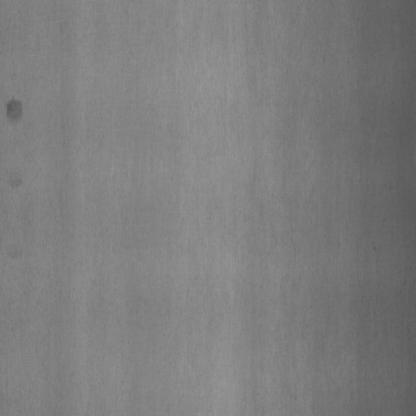oil_spot: (5, 89, 24, 128)
